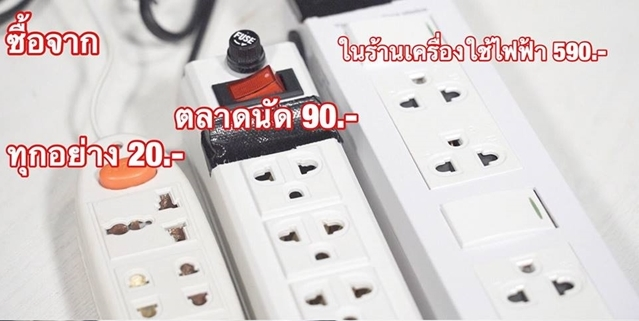Three_eye_plug: (289, 2, 639, 321), (171, 26, 431, 321), (72, 126, 252, 321)
